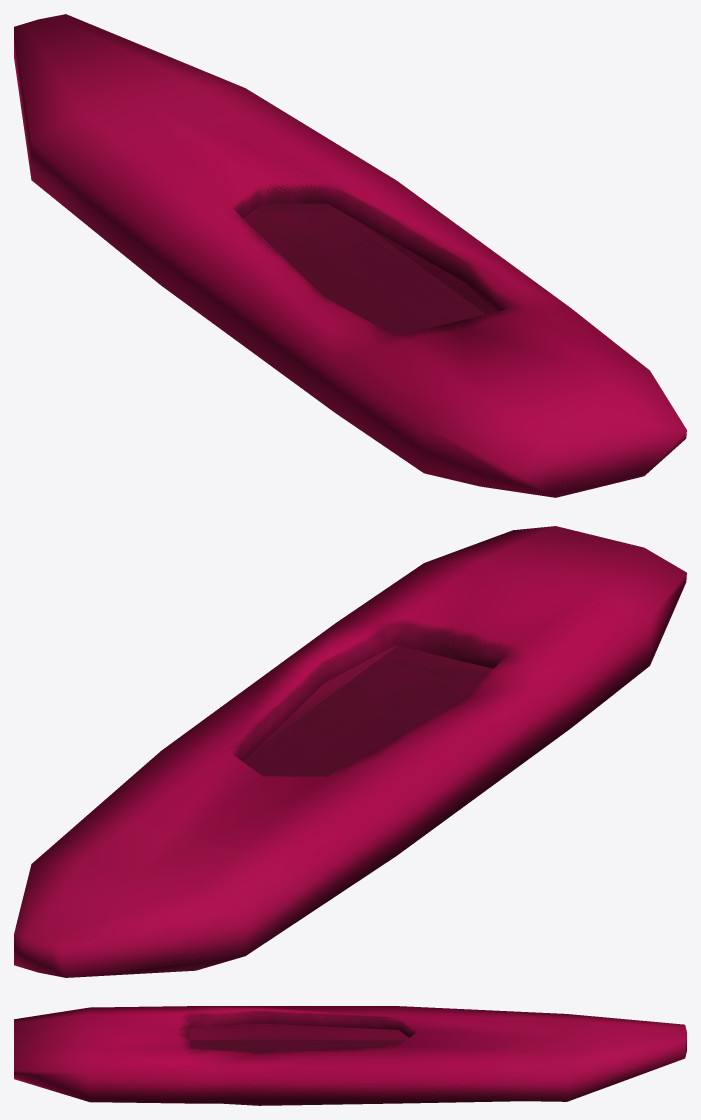
Rendered from Kayak.glb.
The picture shows the model from 3 angles, top to bottom: view 1: azimuth 30°, elevation 25°; view 2: azimuth 150°, elevation 25°; view 3: azimuth 270°, elevation 25°; orthographic projection. The views are drawn at different scales.
Visible parts, largest first — view 1: Kayak; view 2: Kayak; view 3: Kayak.
Boxes of the visible parts, x1,y1,x2,y2 form: Kayak: [14, 14, 686, 497]; Kayak: [14, 526, 686, 977]; Kayak: [14, 1006, 686, 1105].
Bounding box in the file's own units: 1.06 × 0.3813 × 4.36.
Materials: 1 (1 with a texture image).
